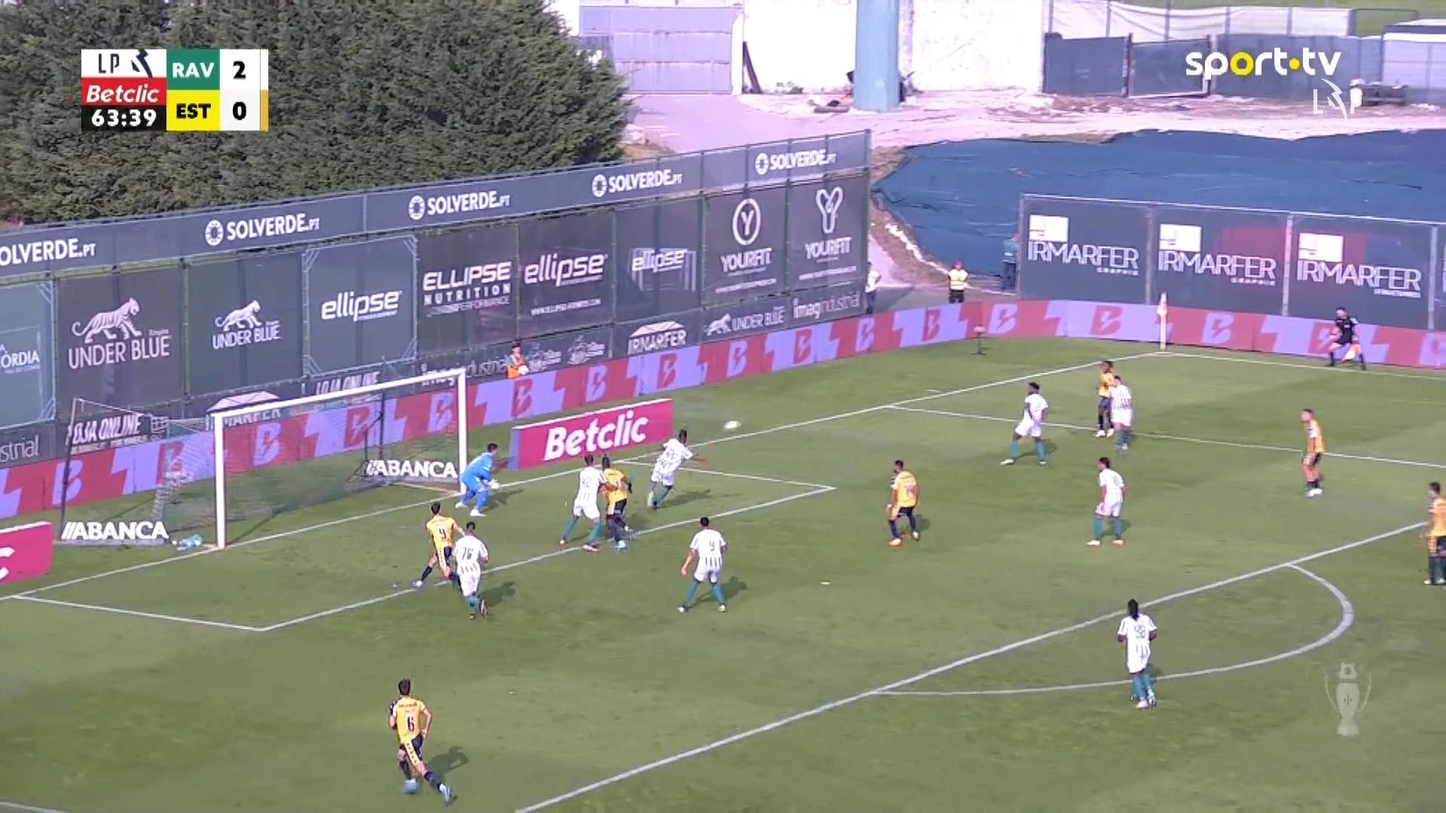ball: (723, 420, 740, 431)
goalkeeper: (453, 442, 501, 516)
player: (387, 677, 456, 806), (676, 515, 728, 613), (645, 428, 705, 509), (410, 501, 465, 589), (558, 452, 606, 551), (1116, 597, 1158, 708), (999, 380, 1051, 466), (450, 521, 490, 620), (1086, 455, 1127, 546), (599, 452, 634, 540), (885, 458, 920, 545), (1420, 480, 1444, 585), (1299, 407, 1325, 496), (1107, 373, 1133, 452), (1093, 358, 1115, 437)
referee: (1322, 306, 1365, 368)
